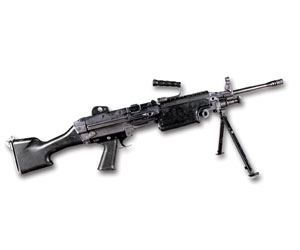rifle: (6, 61, 287, 198)
